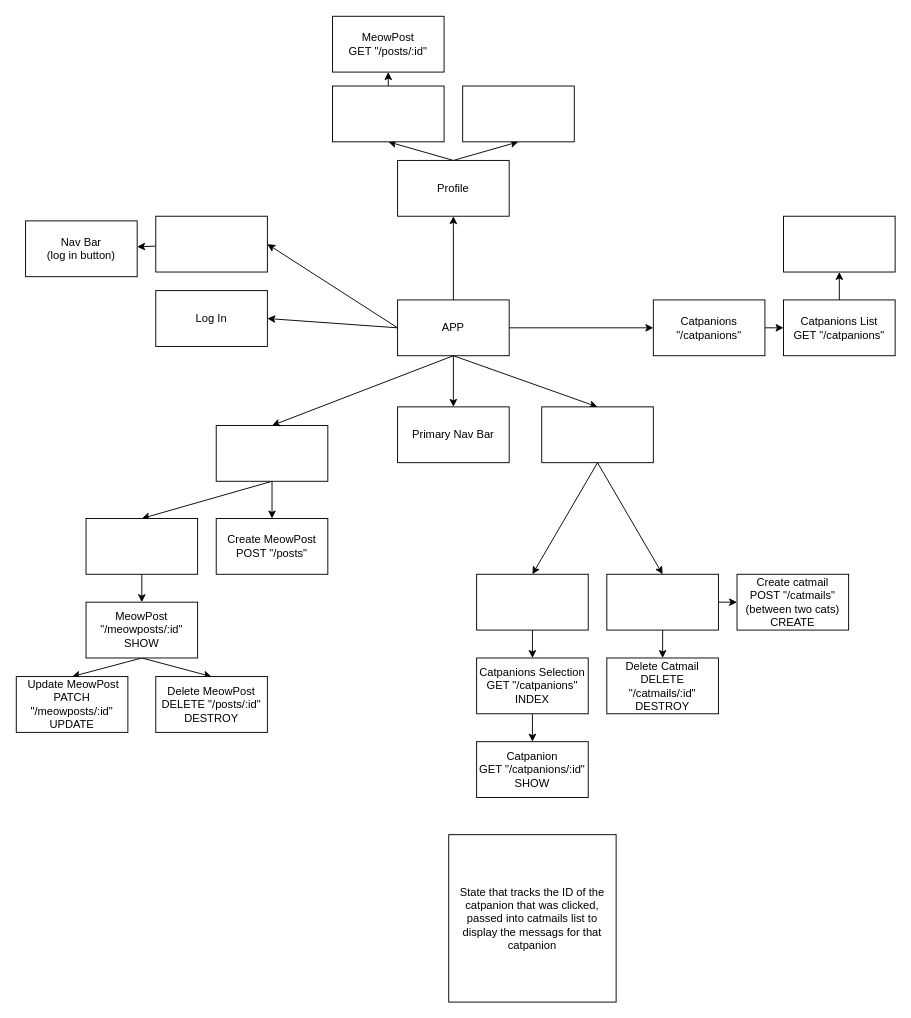
This 911x1018 diagram has some shape labels left out. The box of each missing label's shape, as (x1, y1, x2, y2) in pixels:
Catmail "/catmail": (541, 406, 653, 463)
Catmails List GET "/catmails" (between two cats) INDEX: (606, 573, 718, 630)
Catpanion "/catpanions/:id": (783, 215, 895, 272)
MeowPosts GET "/MeowPosts": (332, 85, 444, 142)
MeowPosts List GET "/meowposts" INDEX: (85, 518, 198, 574)
News Feed "/posts": (215, 425, 328, 481)
Profile Information: (462, 85, 574, 142)
Side Bar: (476, 573, 588, 630)
Sign Up: (155, 215, 267, 272)
